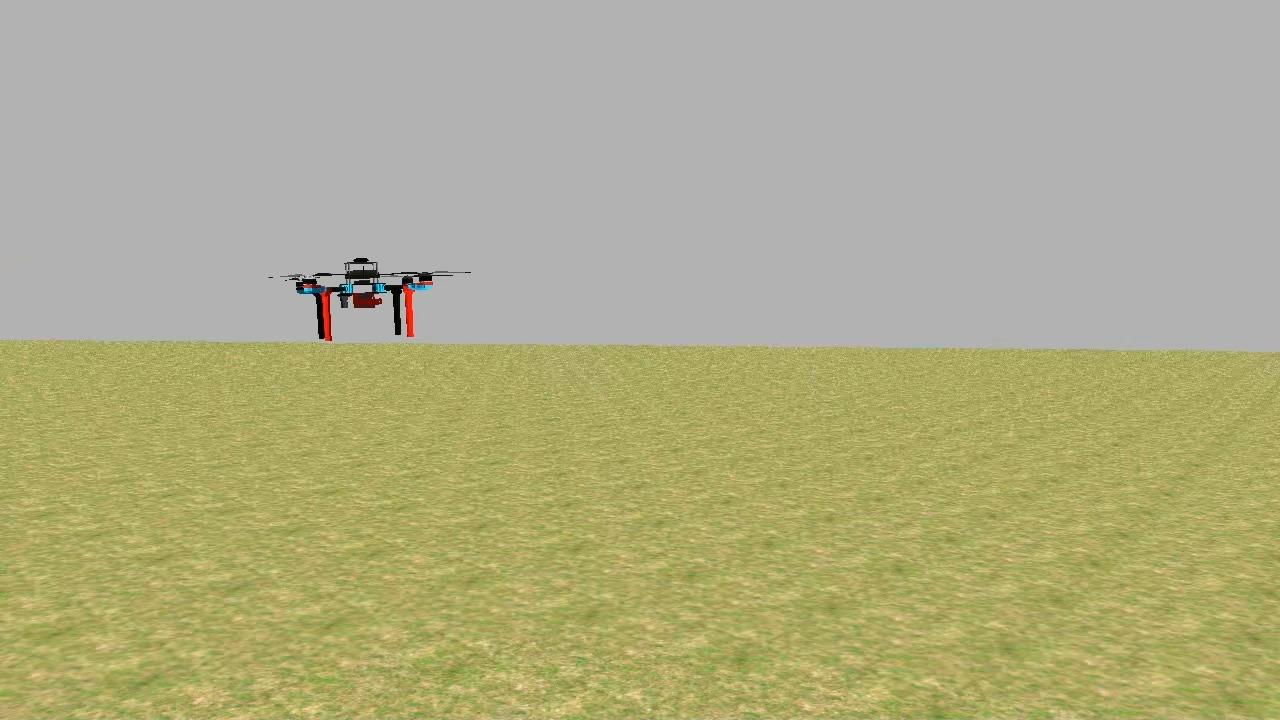UAV: (290, 252, 440, 346)
